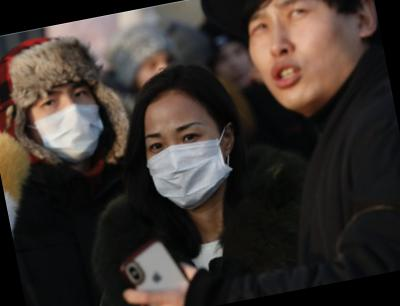with_mask: (139, 111, 239, 218), (22, 78, 111, 168)
